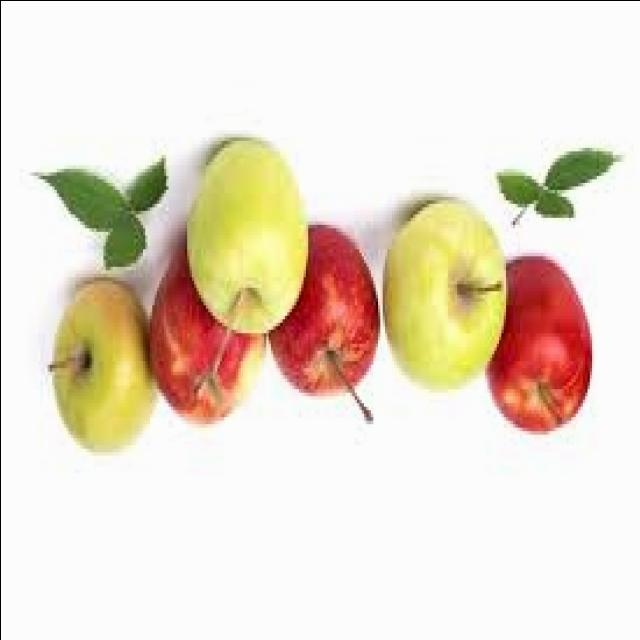agrume: (177, 93, 325, 375), (358, 183, 512, 435), (251, 202, 406, 448), (130, 254, 306, 470), (452, 232, 604, 482), (25, 246, 181, 476)
